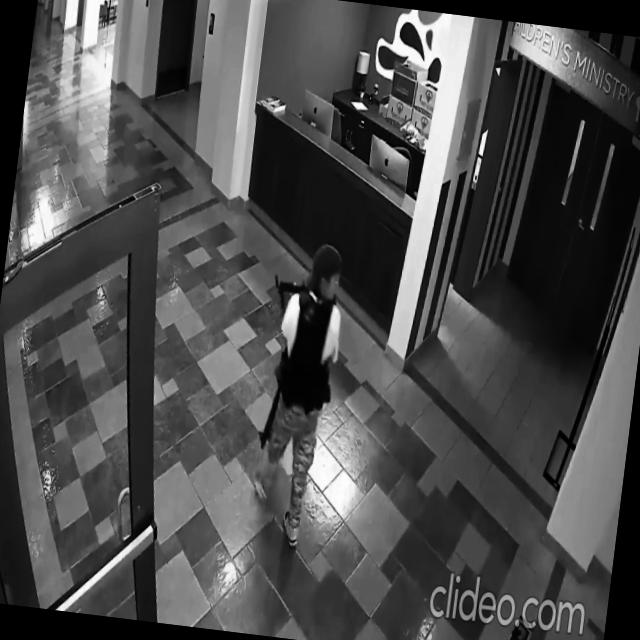gun: (257, 337, 291, 451), (272, 275, 315, 298)
person with a gun: (242, 236, 352, 552)
